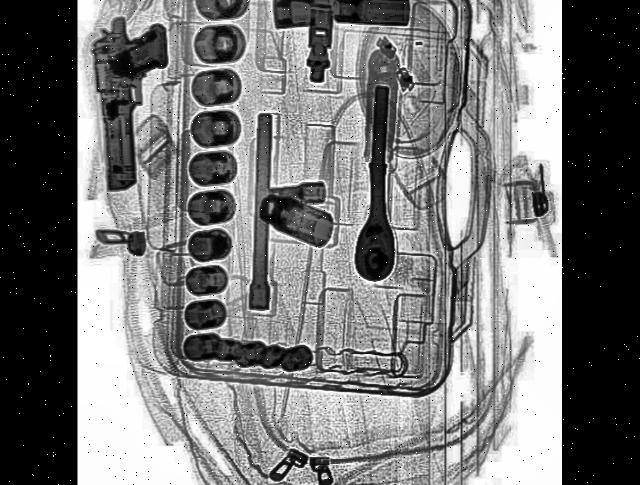Gun: (87, 8, 176, 191)
